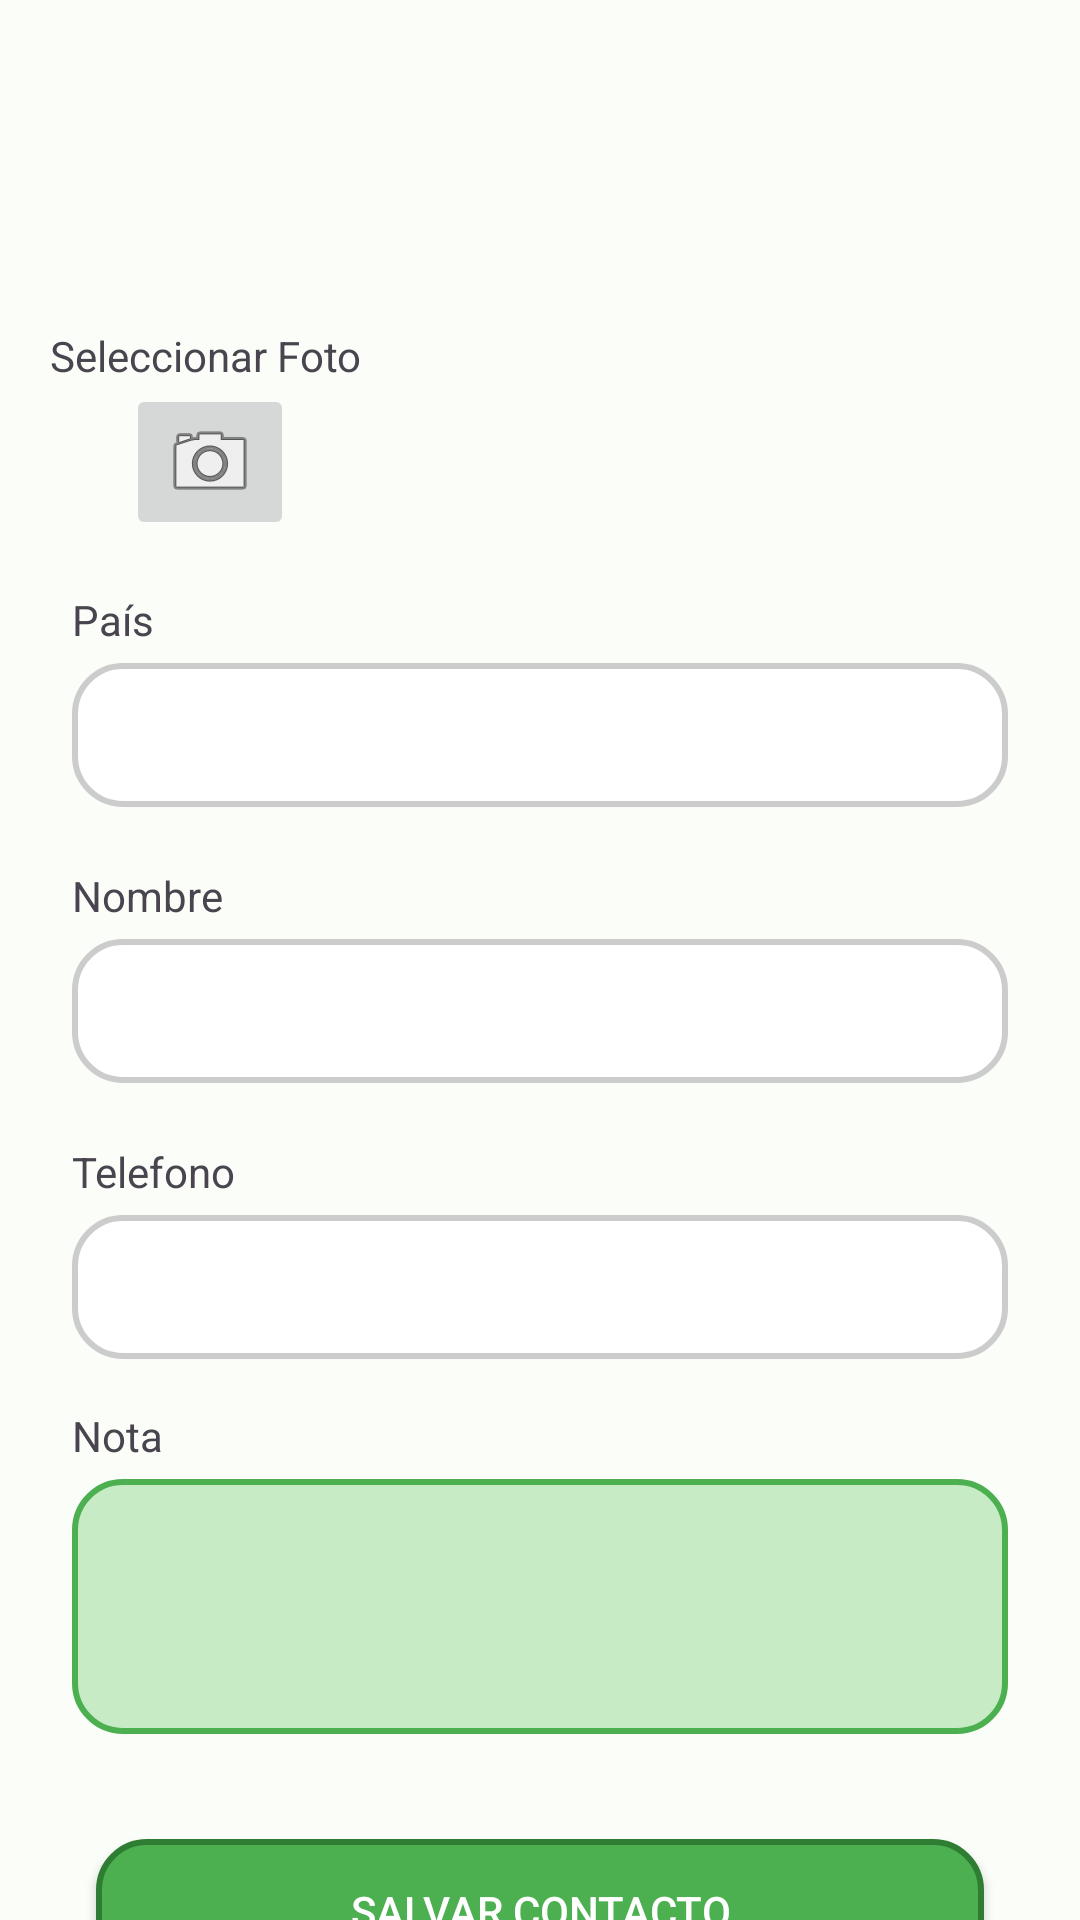

Icons on this 1080x1920 Android screen, each with the point to tap as (x,y):
camera: (210,462)
